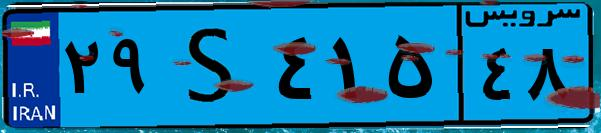1: (330, 28, 385, 110)
2: (57, 26, 110, 100)
4: (270, 28, 330, 110), (475, 38, 525, 113)
5: (385, 28, 445, 110)
8: (525, 38, 570, 115)
9: (110, 28, 158, 98)
S: (158, 12, 270, 120)
